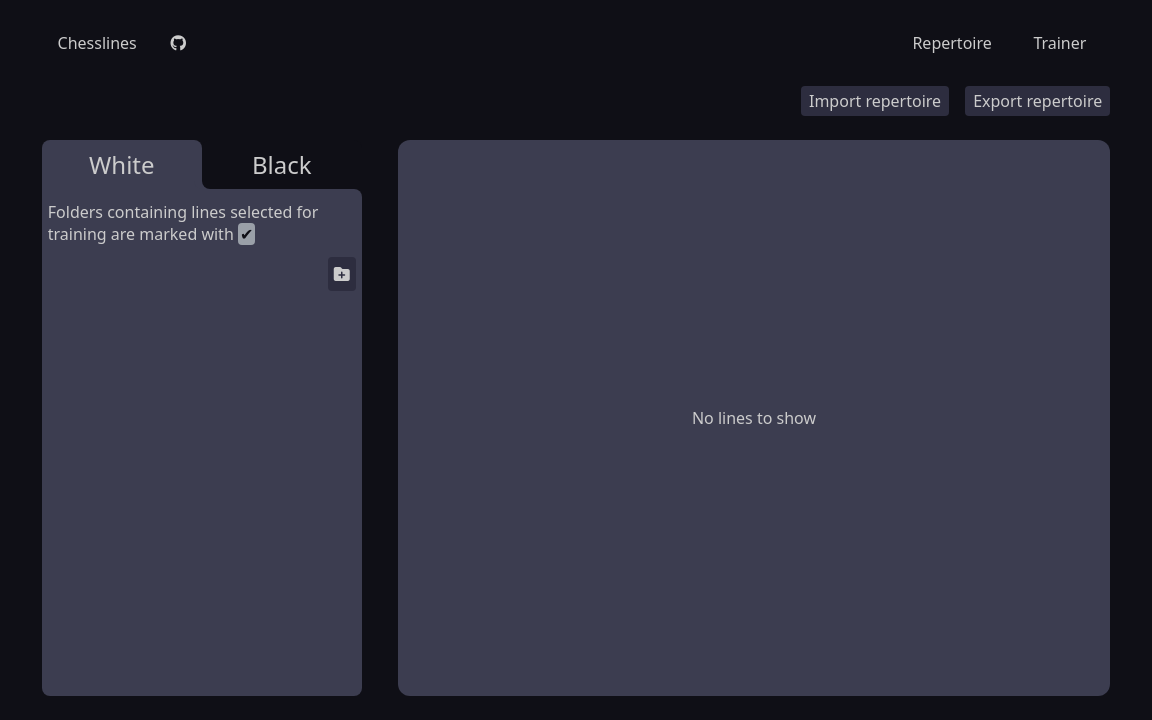
Test: Import › Opens import dialog when clicked
Click the button "Import repertoire": (875, 101) [801,86,949,116]
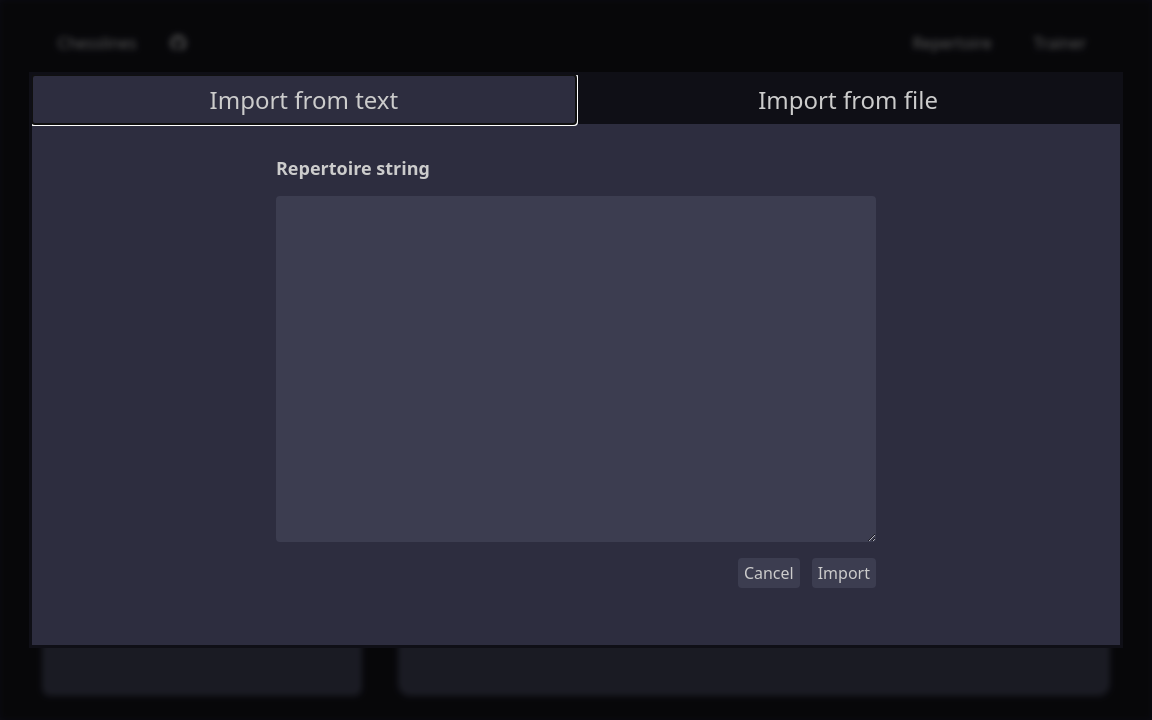
Now the dialog is shown
